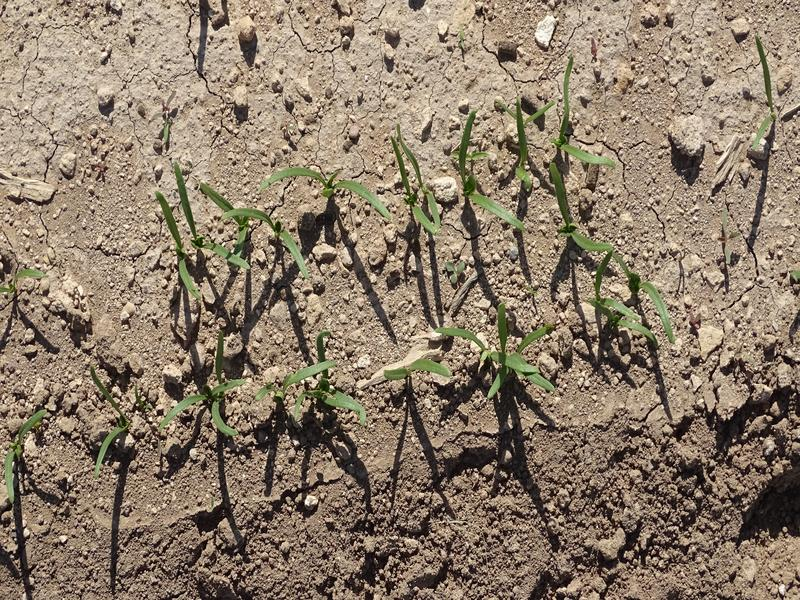Espinaca: (402, 57, 609, 251), (149, 196, 307, 281), (444, 311, 550, 399), (586, 255, 688, 342), (259, 356, 367, 427), (160, 373, 253, 441), (264, 162, 384, 206), (90, 371, 133, 470), (7, 408, 46, 497), (749, 34, 777, 153), (390, 356, 448, 384)
